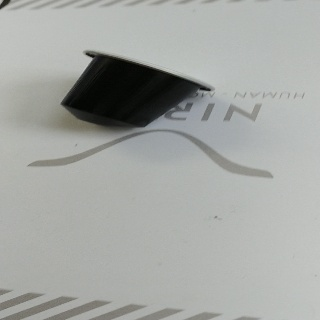capsule_10: (60, 49, 215, 130)
